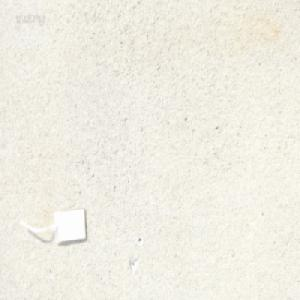LuggageTag: (19, 204, 88, 247)
